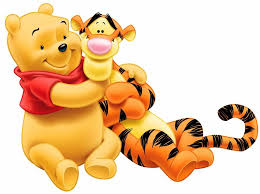Winnie: (2, 4, 93, 98)
